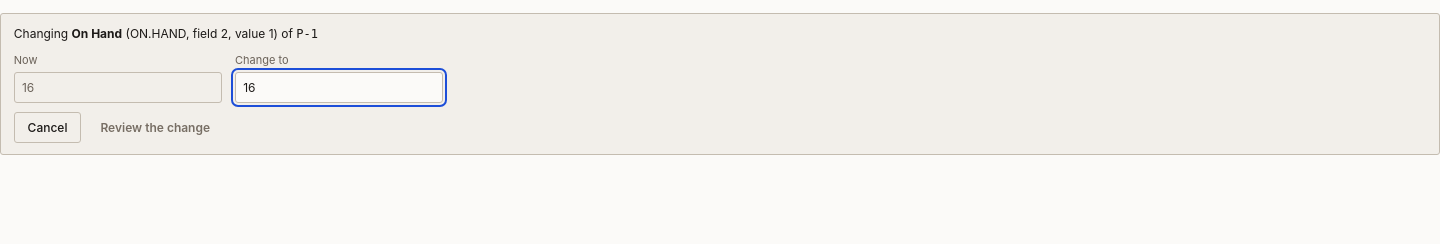
Test: changing a value › reports a change that moved a value as a failure, not a success
Check: the button "Review the change" is shown, box [88, 112, 223, 143]
Replace the text in the field labelled "Change to" with "20": [339, 87] box [235, 72, 443, 103]
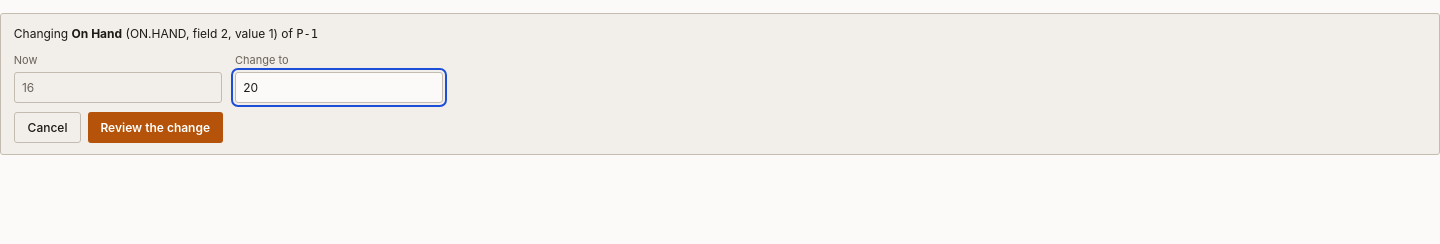
Click the button "Review the change": [155, 128] box [88, 112, 223, 143]
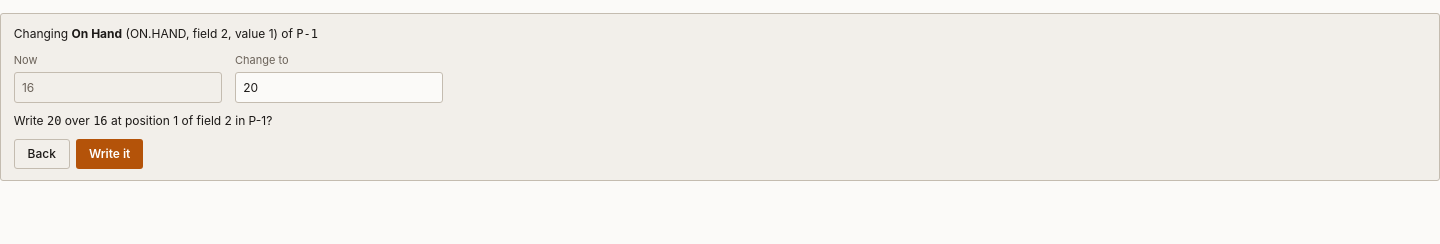
Click the button "Write it": [110, 154] box [76, 139, 143, 169]
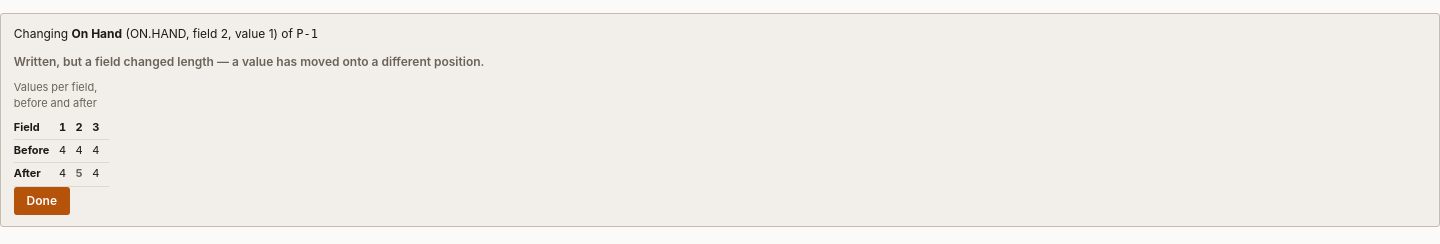
Check: the text "moved onto a different position" is shown, box [14, 54, 484, 69]
Check: the number of cells with class "update__moved" is 1, box [76, 163, 92, 186]
